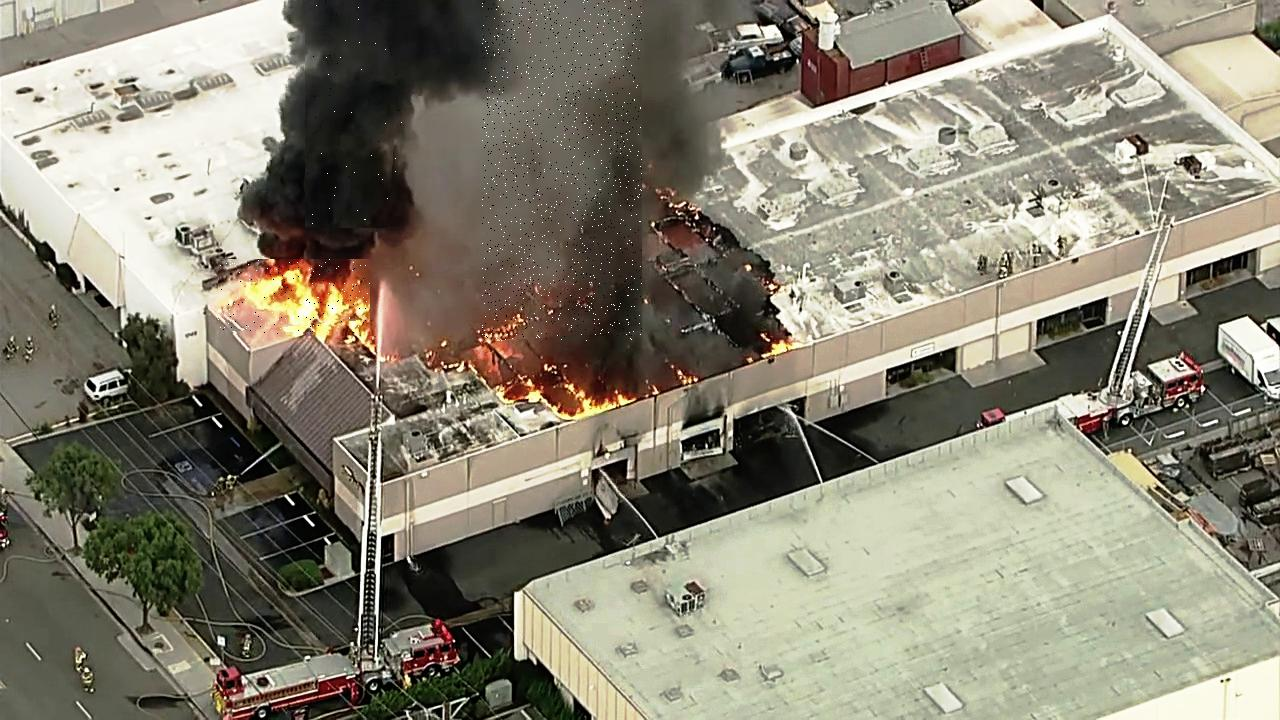fire: (218, 260, 370, 335)
smoke: (482, 0, 642, 341), (305, 1, 403, 228)
